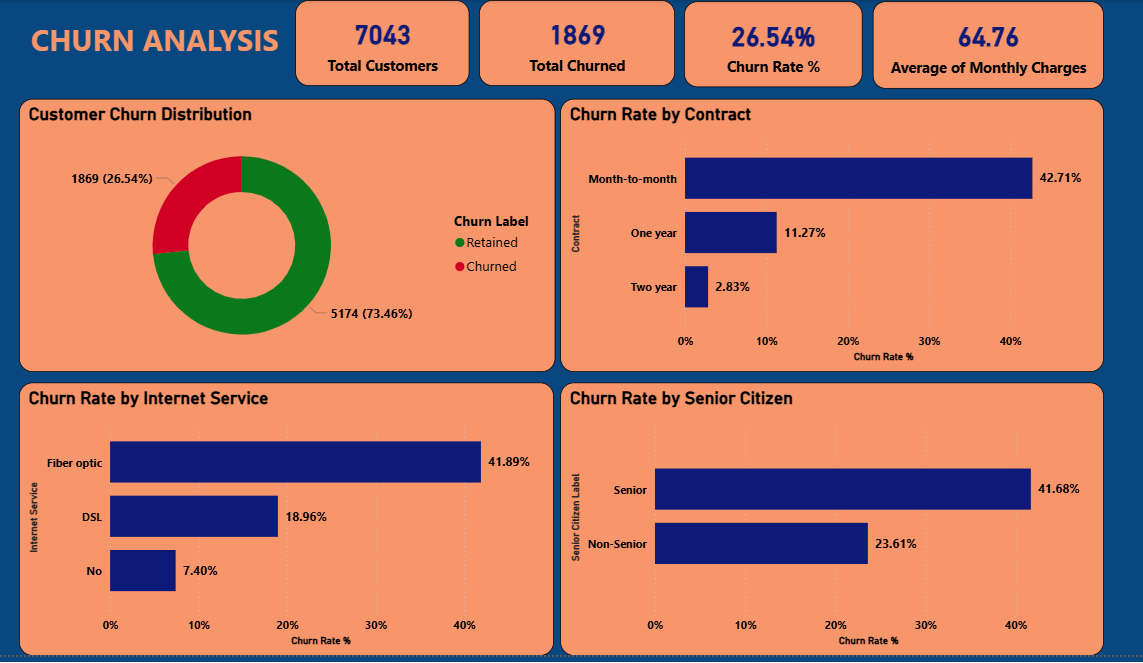

Layout of this report page (visuals, bound fields, positions):
{"tool":"powerbi","page":{"name":"Churn Analysis","canvas":[1280,720],"ordinal":0},"visuals":[{"type":"card","fields":{"Values":["CountNonNull(churn.Customer ID)"]},"box":[331,0,191.5,94.4],"z":0},{"type":"card","fields":{"Values":["Sum(churn.Churn)"]},"box":[532.4,0,215.5,94.4],"z":1000},{"type":"card","fields":{"Values":["churn.Churn Rate %"]},"box":[757.7,1.4,195.8,94.4],"z":2000},{"type":"card","fields":{"Values":["Avg(churn.Monthly Charges)"]},"box":[964.8,1.4,253.5,95.8],"z":3000},{"type":"donutChart","title":"Customer Churn Distribution","fields":{"Y":["CountNonNull(churn.Customer ID)"],"Category":["churn.Churn Label"]},"box":[26.8,108.5,588.7,300],"z":4000},{"type":"textbox","box":[35.2,16.9,294.4,59.2],"z":5000},{"type":"clusteredBarChart","title":"Churn Rate by Contract","fields":{"Category":["churn.Contract"],"Y":["churn.Churn Rate %"]},"box":[621.1,108.5,597.2,300],"z":6000},{"type":"clusteredBarChart","title":"Churn Rate by Internet Service","fields":{"Category":["churn.Internet Service"],"Y":["churn.Churn Rate %"]},"box":[26.8,419.7,587.3,300],"z":7000},{"type":"clusteredBarChart","title":"Churn Rate by Senior Citizen","fields":{"Category":["churn.Senior Citizen Label"],"Y":["churn.Churn Rate %"]},"box":[621.1,419.7,597.2,300],"z":8000}]}

Visuals, with their boxes in screenshot pixels (x1, y1, x2, y2):
card - CountNonNull(churn.Customer ID): 290, 0, 465, 83
card - Sum(churn.Churn): 474, 0, 671, 83
card - churn.Churn Rate %: 680, 0, 859, 84
card - Avg(churn.Monthly Charges): 869, 0, 1100, 86
"Customer Churn Distribution" donutChart: 13, 96, 550, 370
textbox: 20, 12, 289, 66
"Churn Rate by Contract" clusteredBarChart: 555, 96, 1100, 370
"Churn Rate by Internet Service" clusteredBarChart: 13, 380, 549, 654
"Churn Rate by Senior Citizen" clusteredBarChart: 555, 380, 1100, 654
